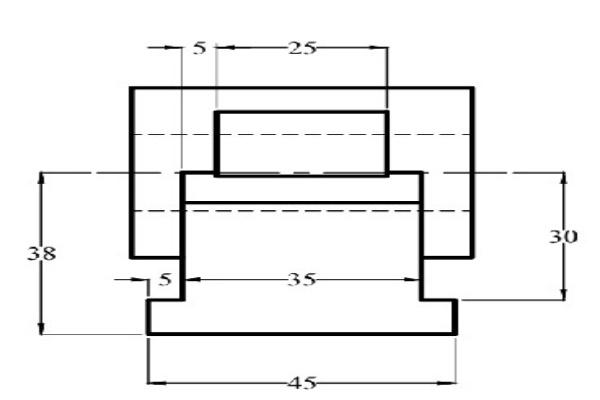dimensions: (274, 265, 328, 294), (19, 242, 64, 269), (544, 224, 586, 249), (286, 35, 321, 61), (281, 372, 320, 394), (187, 35, 213, 64), (154, 266, 177, 293)
